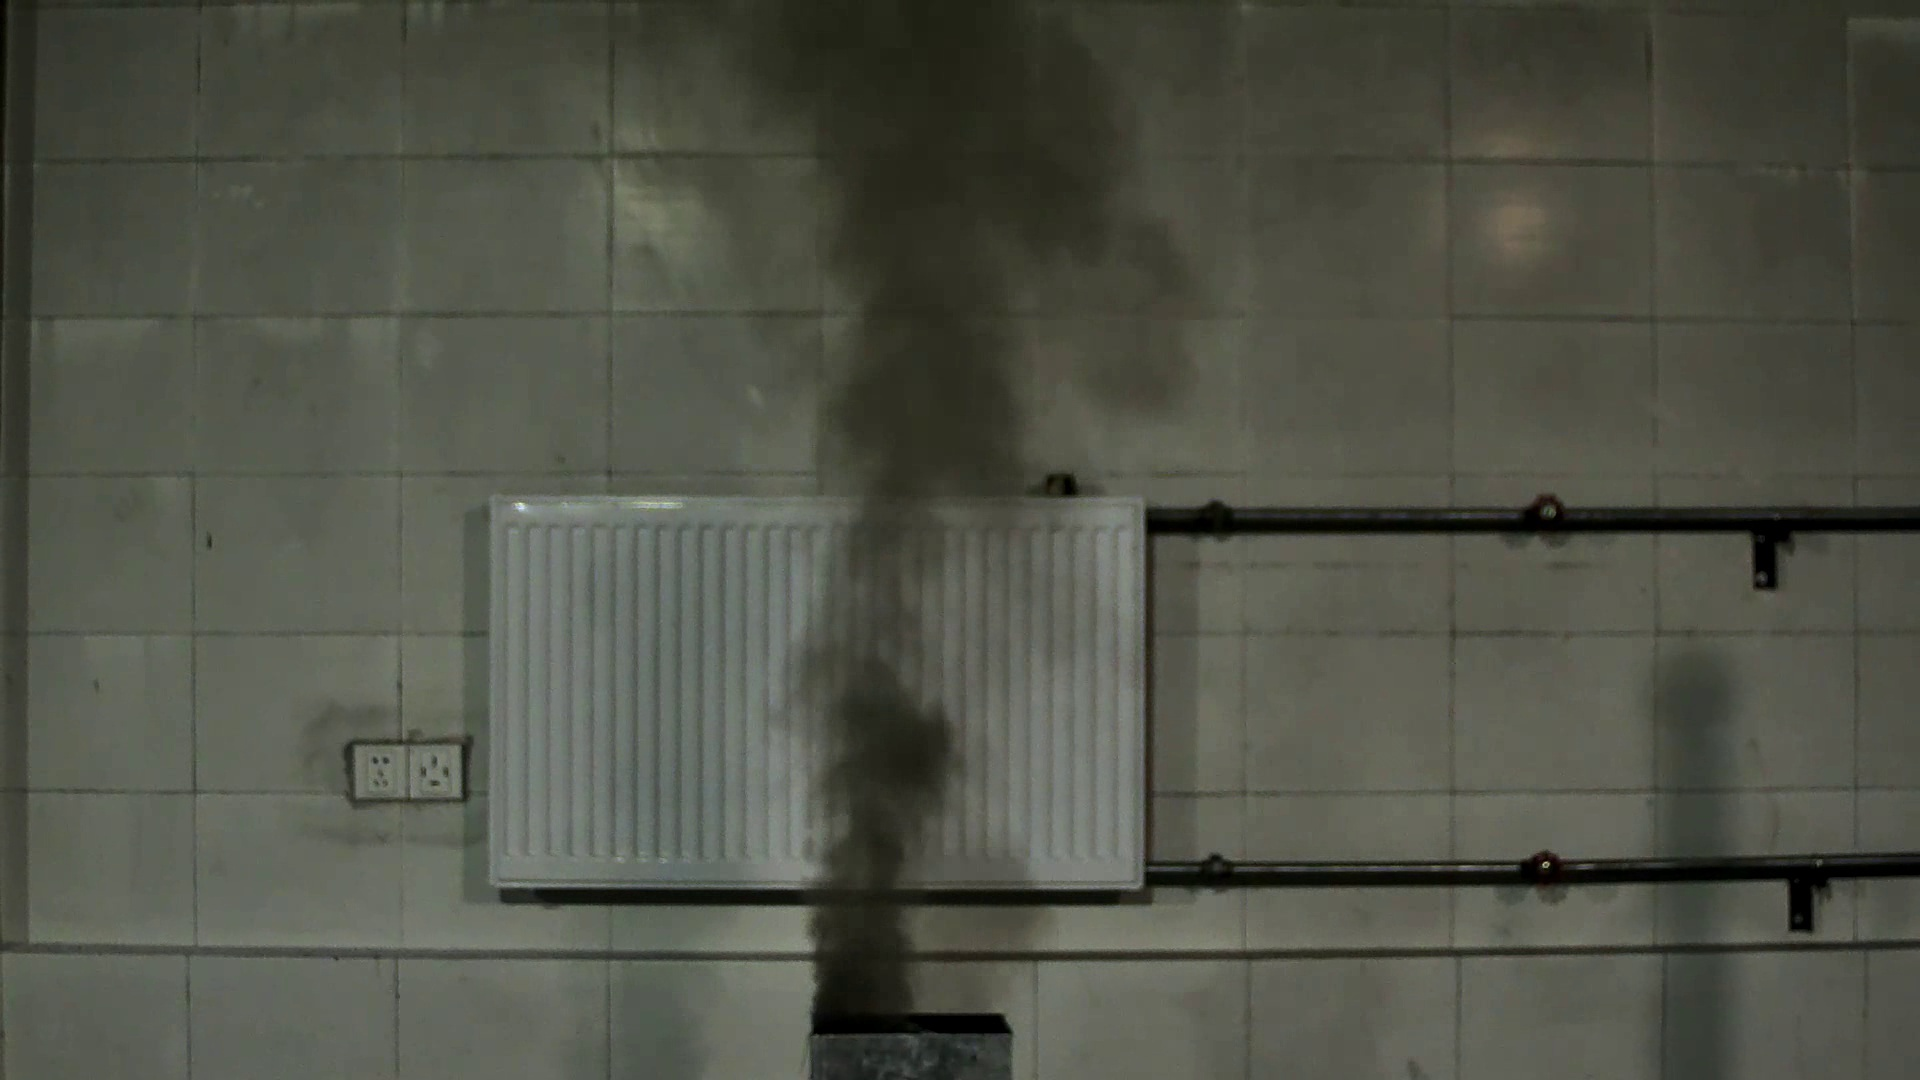smoke: (704, 141, 1112, 1018)
